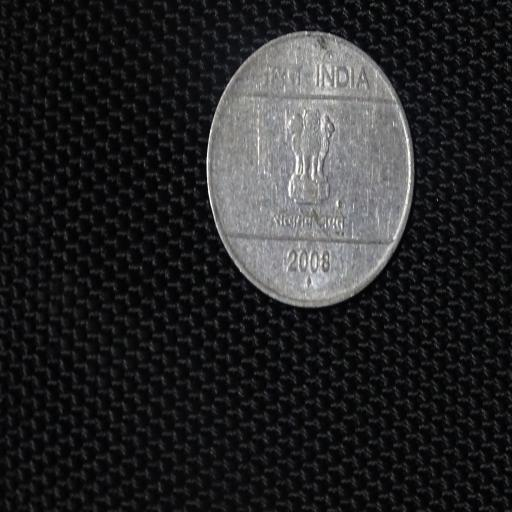rupee1: (204, 34, 415, 307)
